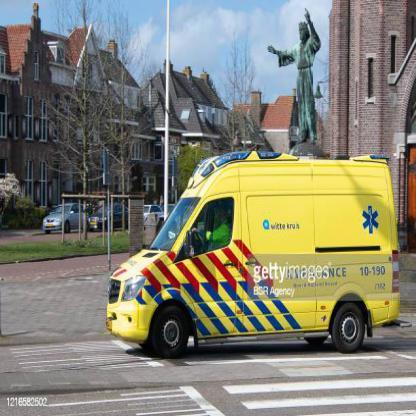Ambulance - v1 Ambulance last generate: (110, 147, 399, 353)
